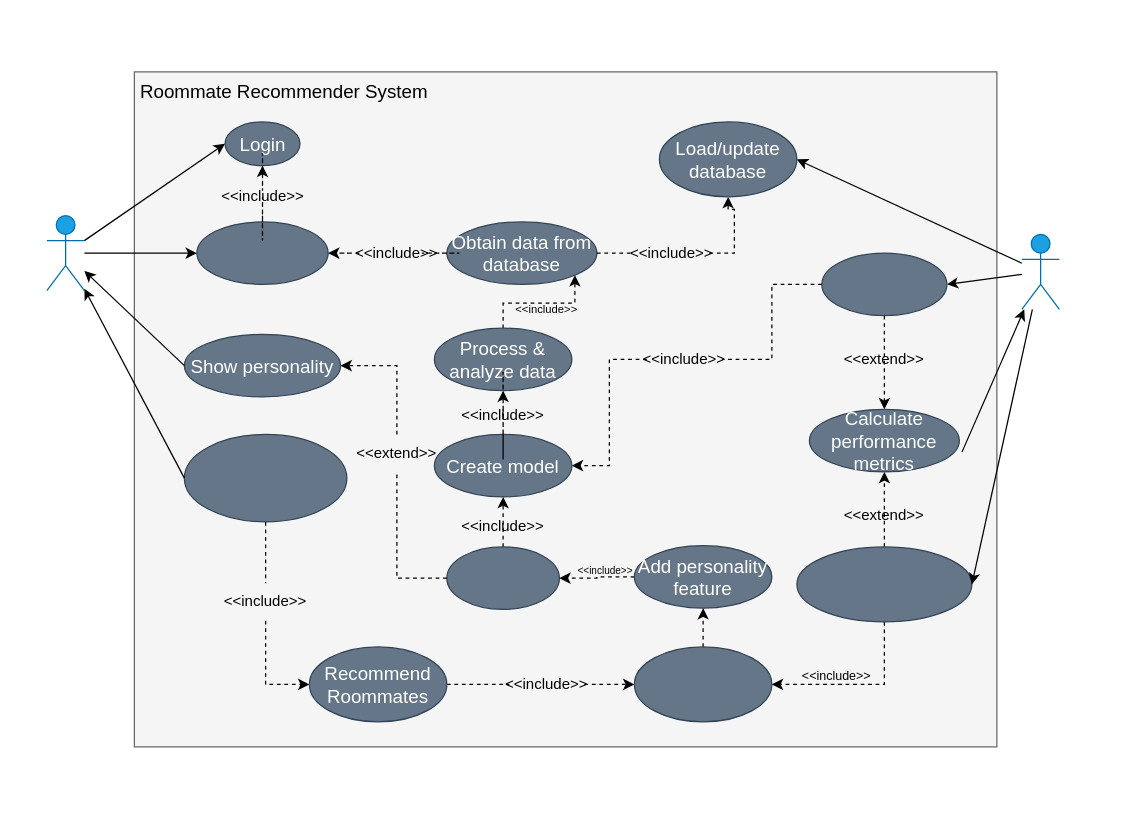
Image size: 1130x818. Some labels were removed from this diagram. The centre of each missing label's shape, as x and y in pixels:
Allow profile access: pixel 262 252
Classify personality: pixel 502 577
Evaluate Algorithm performance: pixel 884 584
Evaluate model: pixel 884 284
Find similar users: pixel 702 684
Show recommended roommates: pixel 265 477
